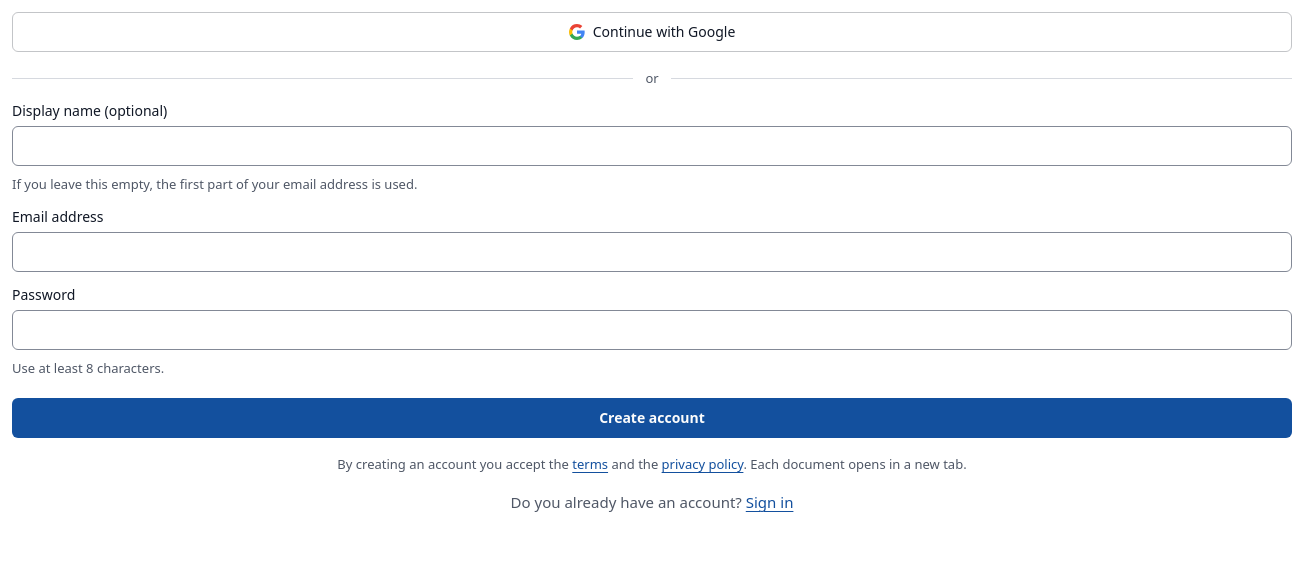
the registration form › offers the sign-in page when the address has an account already
Type "sam@example.com" into the field labelled "Email address" at [652, 252], box [12,232,1292,272]
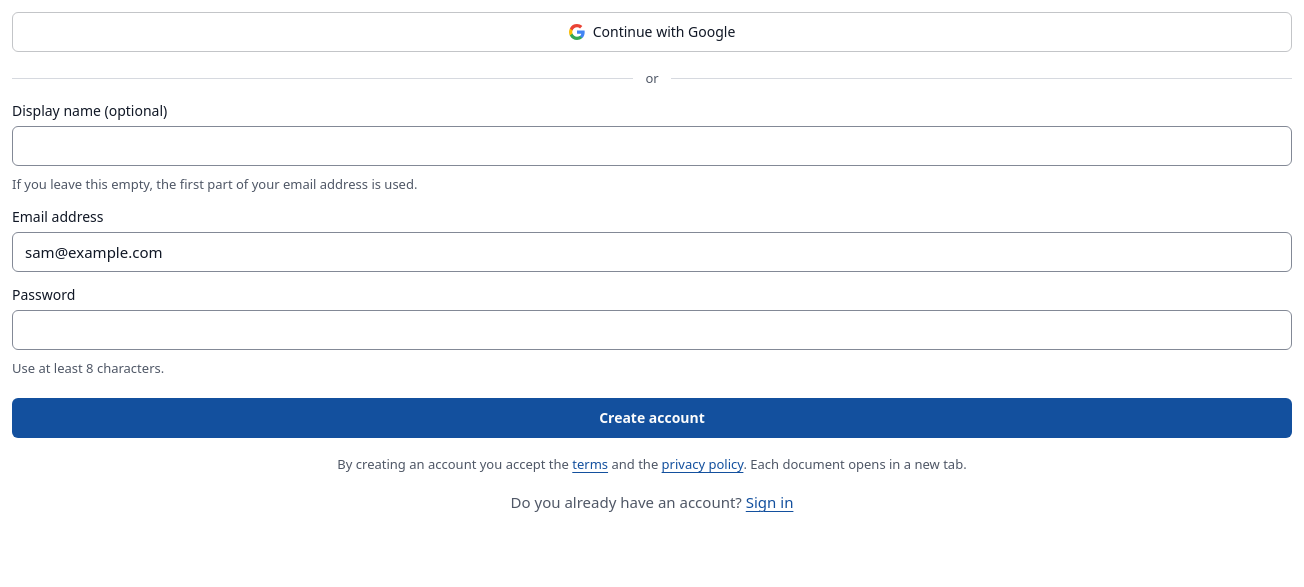
Type "correct-horse" into the password field labelled "Password" at [652, 330], box [12,310,1292,350]
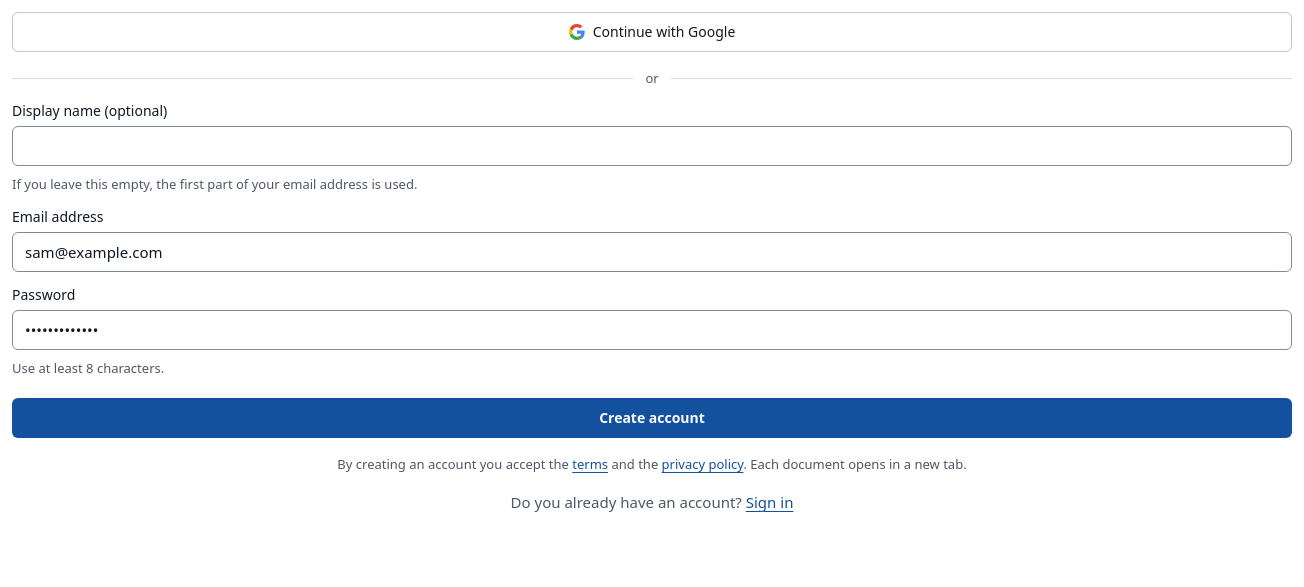
Click the button "Create account" at [652, 418], box [12,398,1292,438]
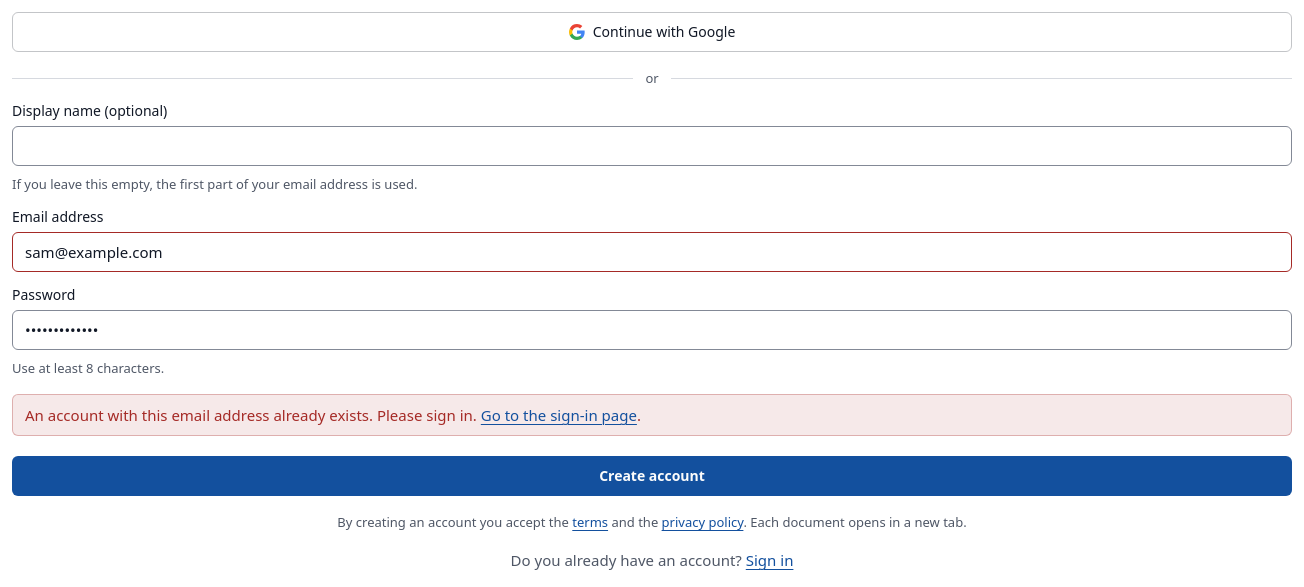
Expected: the message shows "An account with this email address already exists. Please sign in.", [25,405,477,425]
